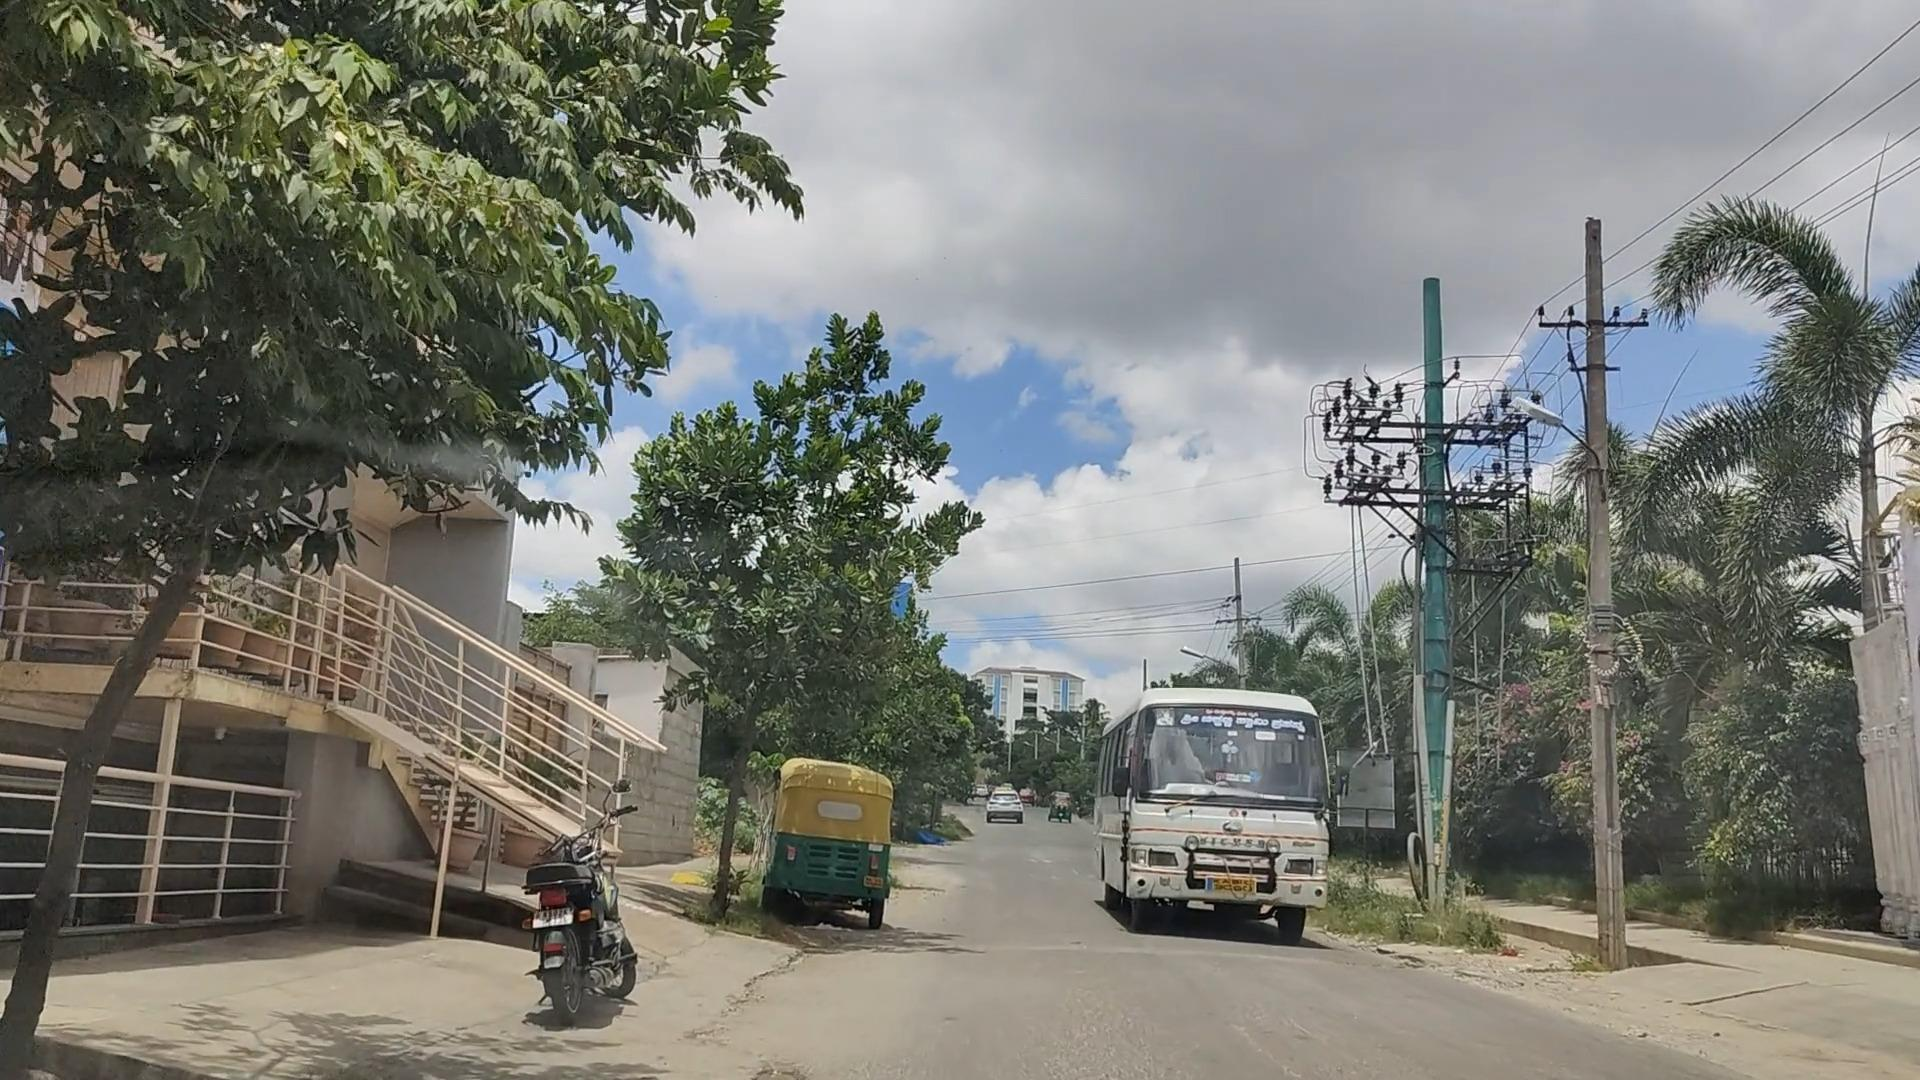HMV: (1102, 666, 1346, 953)
LMV: (468, 766, 641, 1043)
